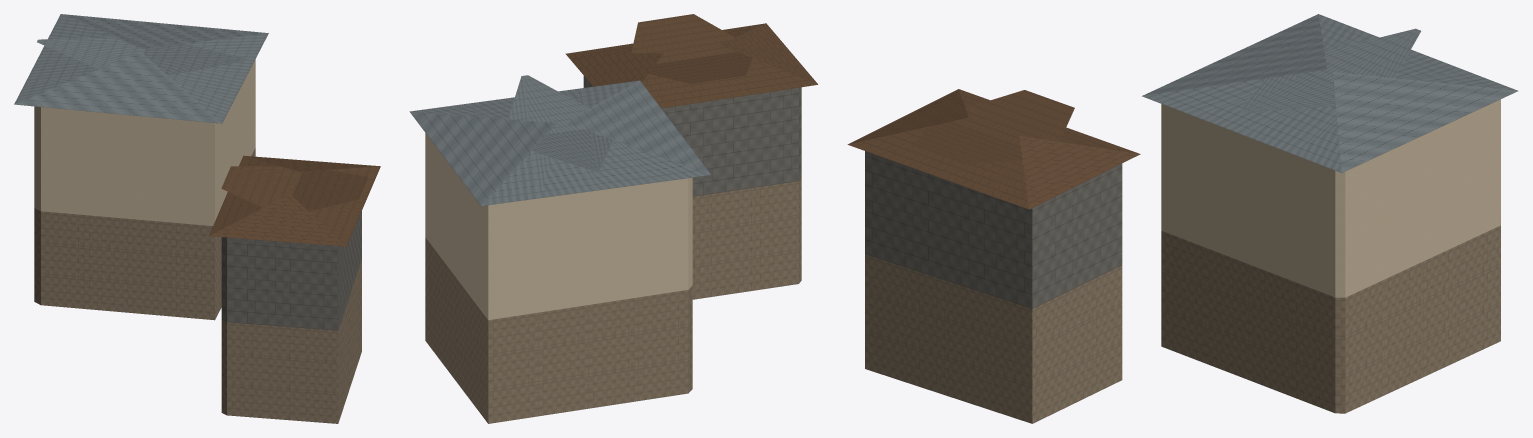
The model's file is bld_c24_18_555.gltf.
The picture shows the model from 3 angles, left to right: view 1: azimuth 30°, elevation 25°; view 2: azimuth 150°, elevation 25°; view 3: azimuth 270°, elevation 25°; orthographic projection. The views are drawn at different scales.
Visible parts, largest first — view 1: bld_c24_18_555; view 2: bld_c24_18_555; view 3: bld_c24_18_555.
Boxes of the visible parts, box(x1,y1,x2,y2) form: bld_c24_18_555: box(14, 14, 380, 423); bld_c24_18_555: box(409, 14, 817, 423); bld_c24_18_555: box(847, 14, 1517, 423).
Size of the model in its own units: 15.02 by 12.9 by 26.78.
Materials: 5 (5 with a texture image).
